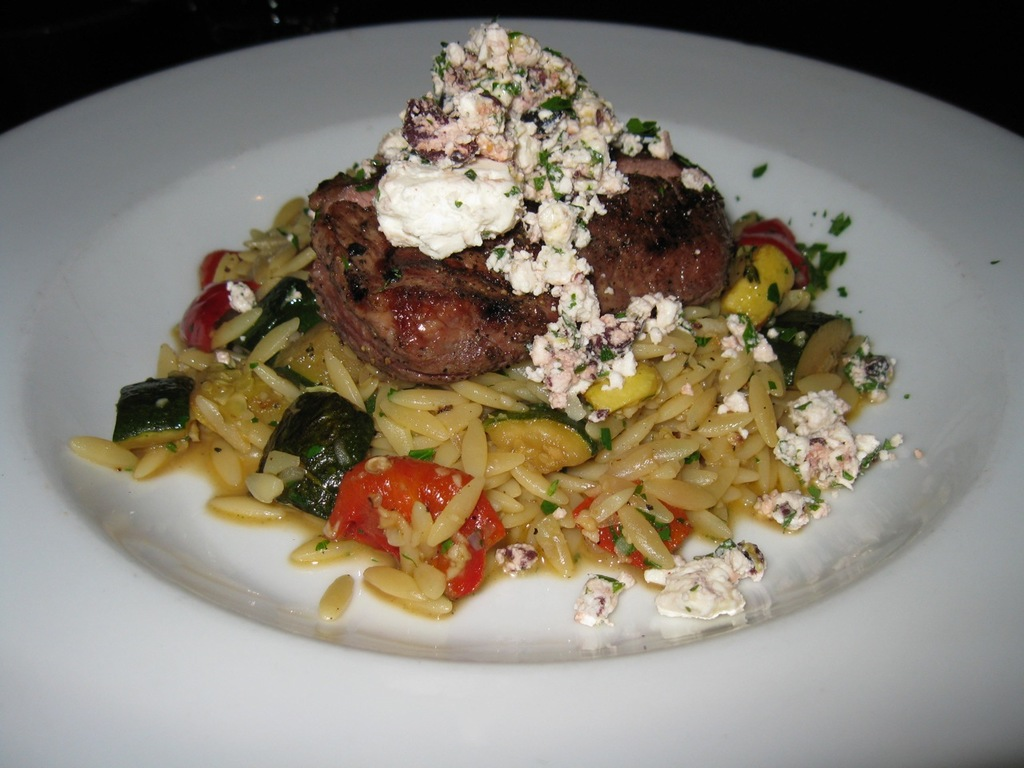pasta: (107, 87, 899, 630)
